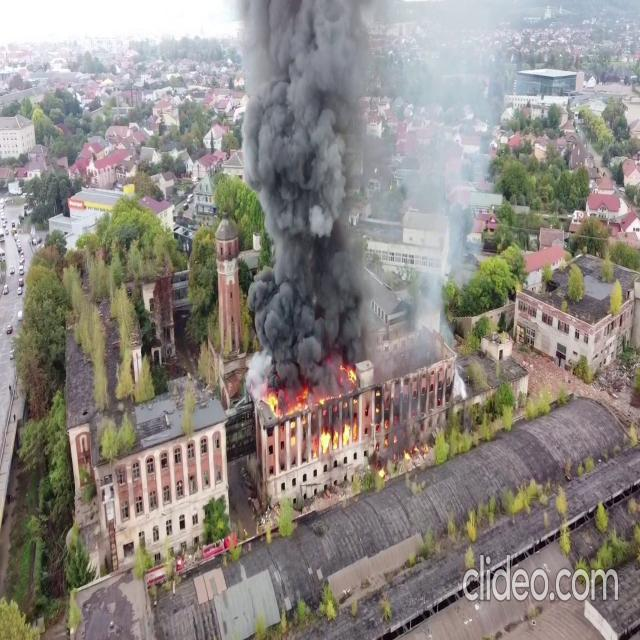Fire: (258, 374, 372, 414)
Smoke: (227, 1, 503, 379), (232, 0, 424, 381)
